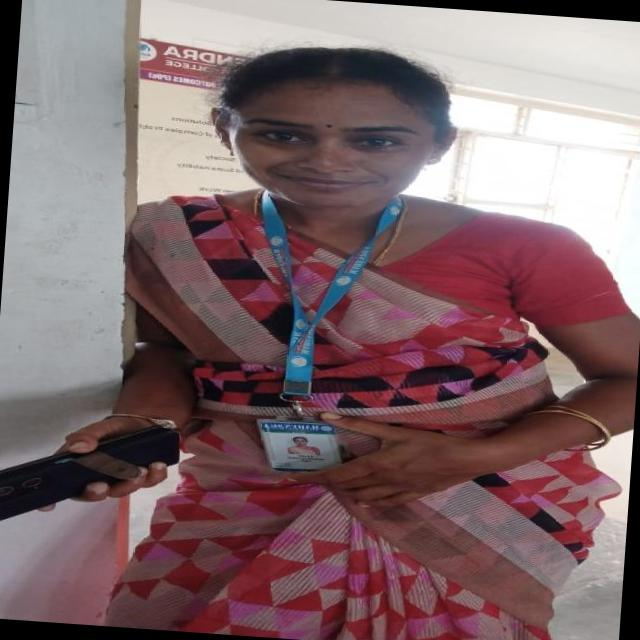id_card: (252, 181, 394, 484)
